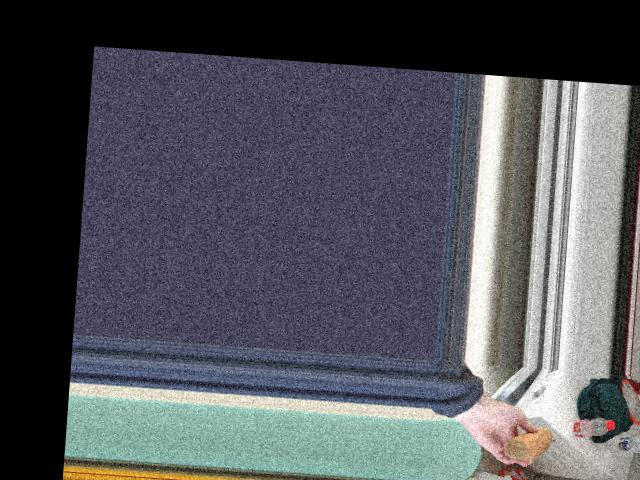sweet_potato: (509, 427, 552, 462)
